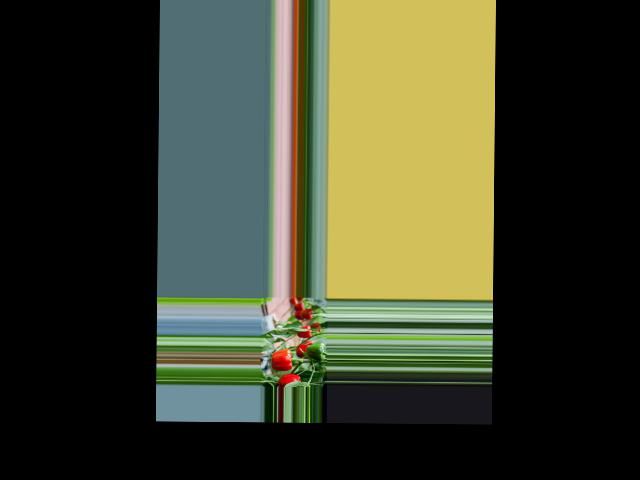bell_pepper: (293, 324, 315, 338)
